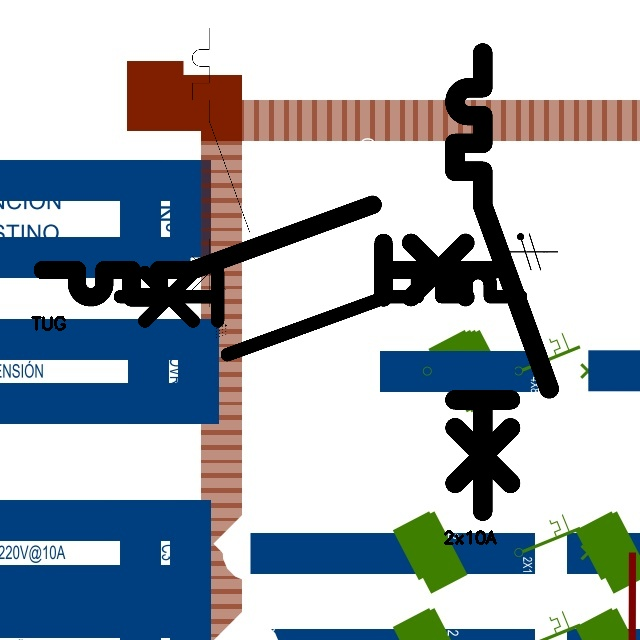interruptor_termomagnetico: (443, 41, 561, 523), (31, 193, 504, 309), (110, 262, 531, 365), (185, 21, 256, 314)
